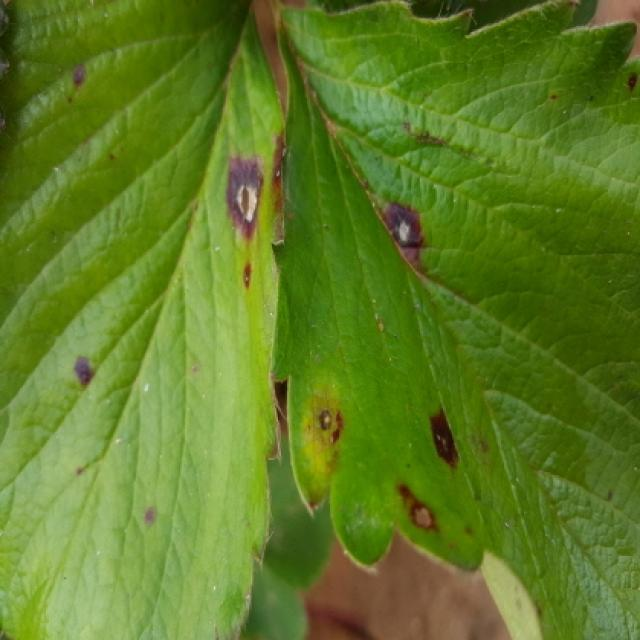Leaf Spot: (272, 0, 638, 638)
